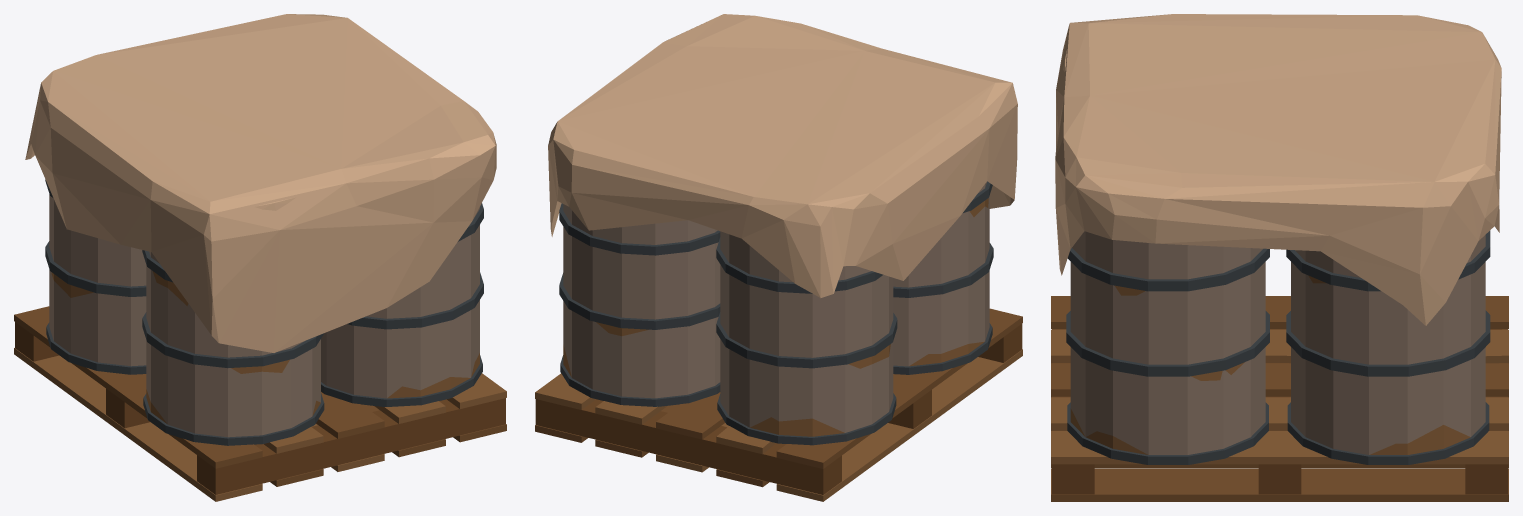
File: Pallet_02.fbx
3 renders of one model, left to right at view 1: azimuth 30°, elevation 25°; view 2: azimuth 150°, elevation 25°; view 3: azimuth 270°, elevation 25°, orthographic. The views are drawn at different scales.
Visible parts, largest first — view 1: Pallet_02; view 2: Pallet_02; view 3: Pallet_02.
Part boxes in pixels (bbox=[...]): Pallet_02: bbox=[14, 14, 506, 501]; Pallet_02: bbox=[535, 14, 1022, 501]; Pallet_02: bbox=[1051, 14, 1508, 501].
Bounding box in the file's own units: 114 × 94.63 × 120.
